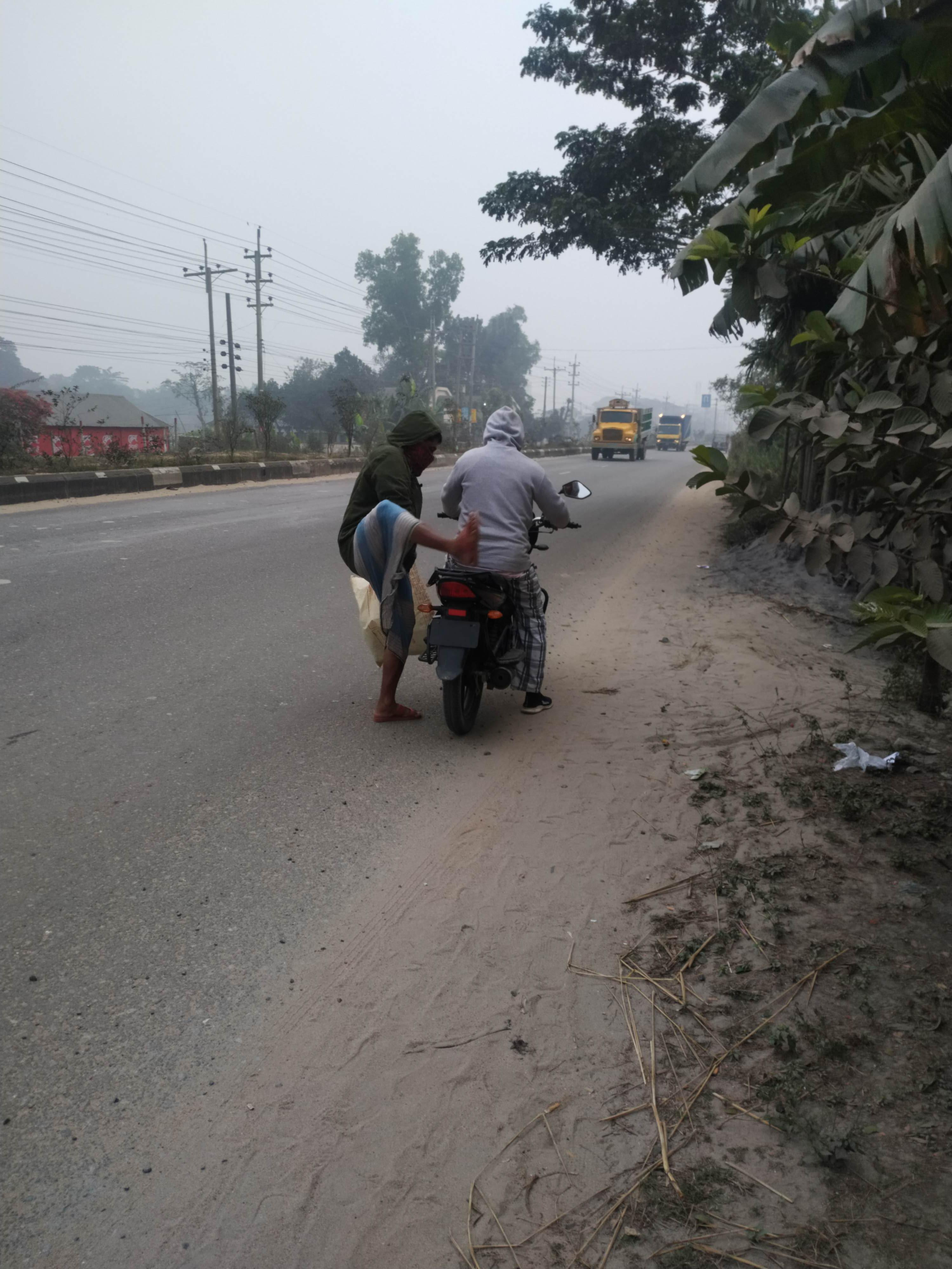Bike: (408, 395, 631, 761)
Truck: (590, 387, 664, 480), (656, 402, 704, 457)
